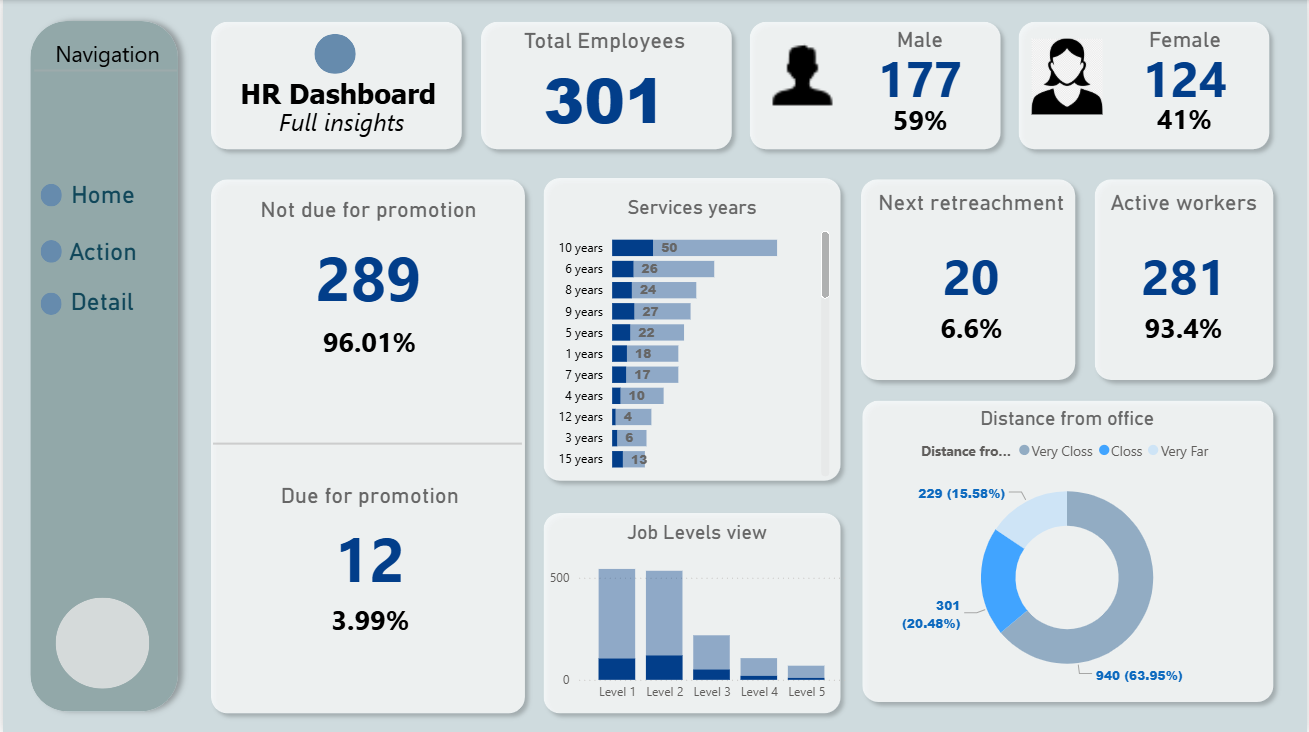

This screenshot's page, from the dashboard's own definition file:
{"tool":"powerbi","page":{"name":"Home","canvas":[1280,720],"ordinal":0},"visuals":[{"type":"shape","box":[16.5,9.6,166.5,699.2],"z":0},{"type":"shape","box":[195.4,12.4,264.3,143.1],"z":1000},{"type":"shape","box":[459.7,12.4,264.3,143.1],"z":2000},{"type":"shape","box":[724,12.4,264.3,143.1],"z":3000},{"type":"shape","box":[988.2,12.4,264.3,143.1],"z":4000},{"type":"shape","box":[195.4,166.5,326.2,542.3],"z":5000},{"type":"shape","box":[521.6,166.2,309.7,315.2],"z":6000},{"type":"shape","box":[521.6,494.1,309.7,214.7],"z":7000},{"type":"shape","box":[834.8,384.2,421.6,314.1],"z":8000},{"type":"shape","box":[833.6,166.7,228.3,215],"z":9000},{"type":"shape","box":[1063.1,166.7,193.3,215],"z":10000},{"type":"textbox","box":[209.7,71.2,238.7,51.4],"z":11000},{"type":"textbox","box":[36.8,33.1,131.3,51.5],"z":12000},{"type":"textbox","box":[209.7,97.6,251.9,55.4],"z":13000},{"type":"shape","box":[305.9,33,40.9,39.6],"z":14000},{"type":"card","title":"Total Employees","fields":{"Values":["All Measures.Total Emp"]},"box":[468,27.5,246.4,112.9],"z":15000},{"type":"card","title":"Male","fields":{"Values":["All Measures.Male"]},"box":[814.8,26.2,170.7,75.7],"z":16000},{"type":"card","fields":{"Values":["All Measures.Male %"]},"box":[834.1,90.8,132.1,55.1],"z":17000},{"type":"card","title":"Female","fields":{"Values":["All Measures.Female"]},"box":[1068.7,26.2,183.1,75.7],"z":18000},{"type":"card","fields":{"Values":["All Measures.Female %"]},"box":[1083.9,90.8,152.8,53.7],"z":19000},{"type":"image","box":[736.3,26.2,95,90.8],"z":20000},{"type":"actionButton","title":"Home","box":[27.8,176.4,140.1,30.2],"z":21000},{"type":"image","box":[1004.7,33,79.8,84],"z":22000},{"type":"actionButton","title":"Action","box":[27.7,233.4,139.8,56.7],"z":23000},{"type":"card","title":"Active workers","fields":{"Values":["All Measures.On service"]},"box":[1058.3,186,203,142.6],"z":24000},{"type":"actionButton","title":"Detail","box":[28.2,282.2,138.7,57.7],"z":25000},{"type":"card","fields":{"Values":["All Measures.% Active workers"]},"box":[1082.4,296,153.4,53.2],"z":26000},{"type":"card","title":"Next retreachment","fields":{"Values":["All Measures.Due for retirment"]},"box":[843.2,186,215,142.6],"z":27000},{"type":"card","fields":{"Values":["All Measures.%Due for retirment"]},"box":[865,296,171.5,53.2],"z":28000},{"type":"columnChart","title":"Job Levels view","fields":{"Category":["HR Analytics Data.Job Level"],"Y":["All Measures.Total Emp"]},"box":[531.3,512,300,185.8],"z":29000},{"type":"barChart","title":"Services years","fields":{"Category":["HR Analytics Data.Total working Years"],"Y":["All Measures.Total Emp"]},"box":[536.4,192.1,280.3,280.3],"z":30000},{"type":"donutChart","title":"Distance from office","fields":{"Category":["HR Analytics Data.Distance from office"],"Y":["All Measures.Total Emp"]},"box":[840.8,399.9,408.3,282.7],"z":31000},{"type":"card","title":"Not due for promotion","fields":{"Values":["All Measures.Not Due"]},"box":[207.8,192.1,303.2,130.5],"z":32000},{"type":"card","title":"Due for promotion","fields":{"Values":["All Measures.Due for promotion"]},"box":[209,473.8,303.2,119.6],"z":33000},{"type":"shape","box":[206.6,427.7,303.2,14.5],"z":34000},{"type":"card","fields":{"Values":["All Measures.% Not due for promotion"]},"box":[283.5,309.7,152.8,53.7],"z":35000},{"type":"card","fields":{"Values":["All Measures.% Due for promotion"]},"box":[285.1,582.5,152.2,53.2],"z":36000},{"type":"shape","box":[36.9,180.7,21.1,22.4],"z":37000},{"type":"shape","box":[36.9,236,21.1,22.4],"z":38000},{"type":"shape","box":[36.8,287.1,20.9,22.1],"z":39000},{"type":"shape","box":[51.4,586.8,92.3,89.7],"z":40000},{"type":"shape","box":[30.2,61.6,140.1,15.7],"z":41000}]}

Visuals, with their boxes in screenshot pixels (x1, y1, x2, y2), scaled from the page's 1280x720 canvas onto the 1309x732 screenshot:
shape: left=17, top=10, right=187, bottom=721
shape: left=200, top=13, right=470, bottom=158
shape: left=470, top=13, right=740, bottom=158
shape: left=740, top=13, right=1011, bottom=158
shape: left=1011, top=13, right=1281, bottom=158
shape: left=200, top=169, right=533, bottom=721
shape: left=533, top=169, right=850, bottom=489
shape: left=533, top=502, right=850, bottom=721
shape: left=854, top=391, right=1285, bottom=710
shape: left=852, top=169, right=1086, bottom=388
shape: left=1087, top=169, right=1285, bottom=388
textbox: left=214, top=72, right=459, bottom=125
textbox: left=38, top=34, right=172, bottom=86
textbox: left=214, top=99, right=472, bottom=156
shape: left=313, top=34, right=355, bottom=74
"Total Employees" card: left=479, top=28, right=731, bottom=143
"Male" card: left=833, top=27, right=1008, bottom=104
card - All Measures.Male %: left=853, top=92, right=988, bottom=148
"Female" card: left=1093, top=27, right=1280, bottom=104
card - All Measures.Female %: left=1108, top=92, right=1265, bottom=147
image: left=753, top=27, right=850, bottom=119
"Home" actionButton: left=28, top=179, right=172, bottom=210
image: left=1027, top=34, right=1109, bottom=119
"Action" actionButton: left=28, top=237, right=171, bottom=295
"Active workers" card: left=1082, top=189, right=1290, bottom=334
"Detail" actionButton: left=29, top=287, right=171, bottom=346
card - All Measures.% Active workers: left=1107, top=301, right=1264, bottom=355
"Next retreachment" card: left=862, top=189, right=1082, bottom=334
card - All Measures.%Due for retirment: left=885, top=301, right=1060, bottom=355
"Job Levels view" columnChart: left=543, top=521, right=850, bottom=709
"Services years" barChart: left=549, top=195, right=835, bottom=480
"Distance from office" donutChart: left=860, top=407, right=1277, bottom=694
"Not due for promotion" card: left=213, top=195, right=523, bottom=328
"Due for promotion" card: left=214, top=482, right=524, bottom=603
shape: left=211, top=435, right=521, bottom=450
card - All Measures.% Not due for promotion: left=290, top=315, right=446, bottom=369
card - All Measures.% Due for promotion: left=292, top=592, right=447, bottom=646
shape: left=38, top=184, right=59, bottom=206
shape: left=38, top=240, right=59, bottom=263
shape: left=38, top=292, right=59, bottom=314
shape: left=53, top=597, right=147, bottom=688
shape: left=31, top=63, right=174, bottom=79
